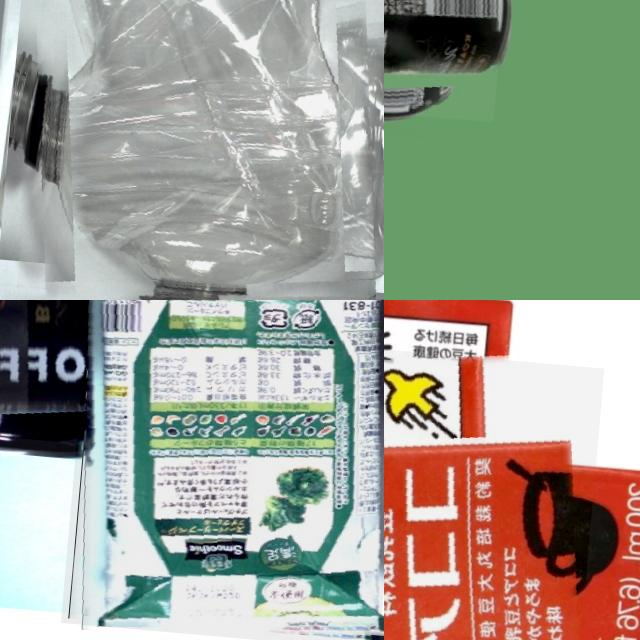Aluminium Foil: (60, 300, 384, 640), (384, 331, 604, 640)
Can: (0, 300, 132, 446), (384, 0, 512, 121)
Transparent Plastic Bottle: (15, 0, 384, 300)
